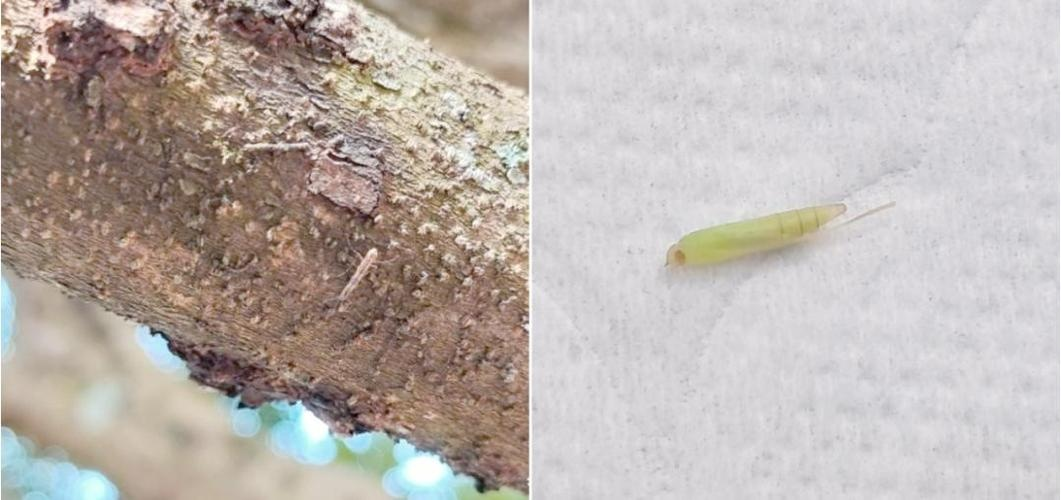Borer: (669, 190, 852, 253), (341, 240, 383, 310)
